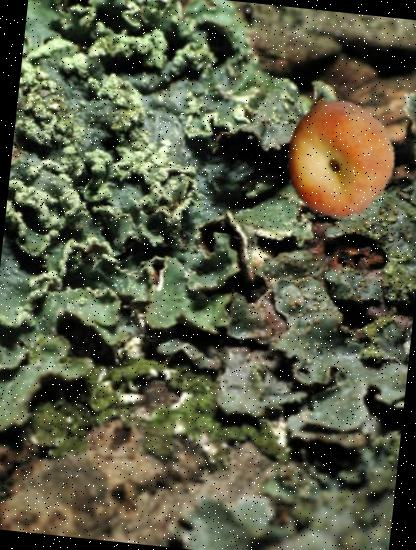Peach: (273, 94, 402, 223)
